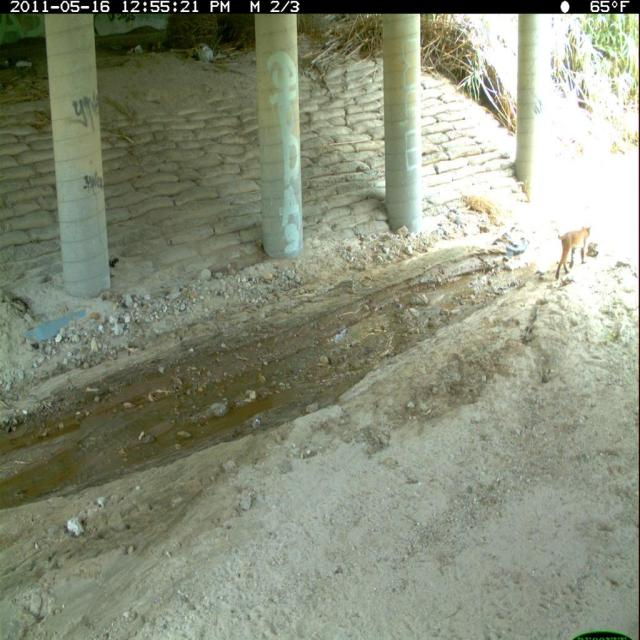bobcat: (553, 223, 595, 284)
